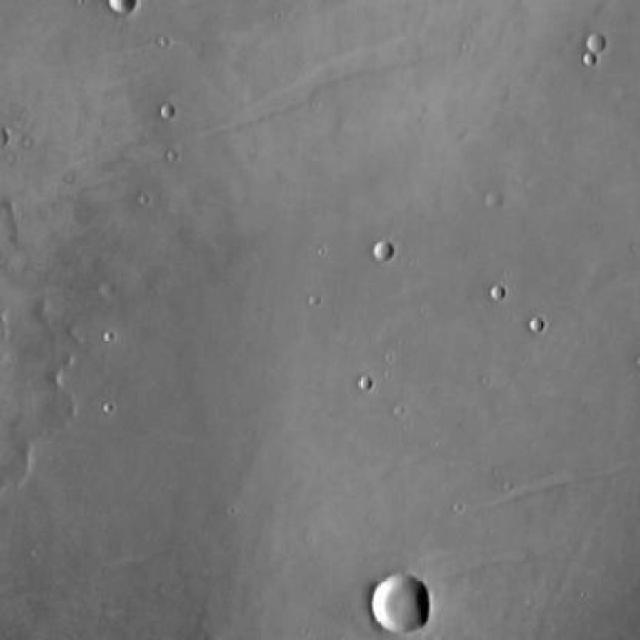crater: (370, 574, 428, 632), (369, 237, 393, 261), (106, 0, 134, 17), (355, 372, 374, 392), (530, 314, 548, 332), (485, 285, 503, 303), (160, 102, 178, 118), (582, 51, 598, 68), (586, 34, 602, 51), (484, 195, 499, 210)
